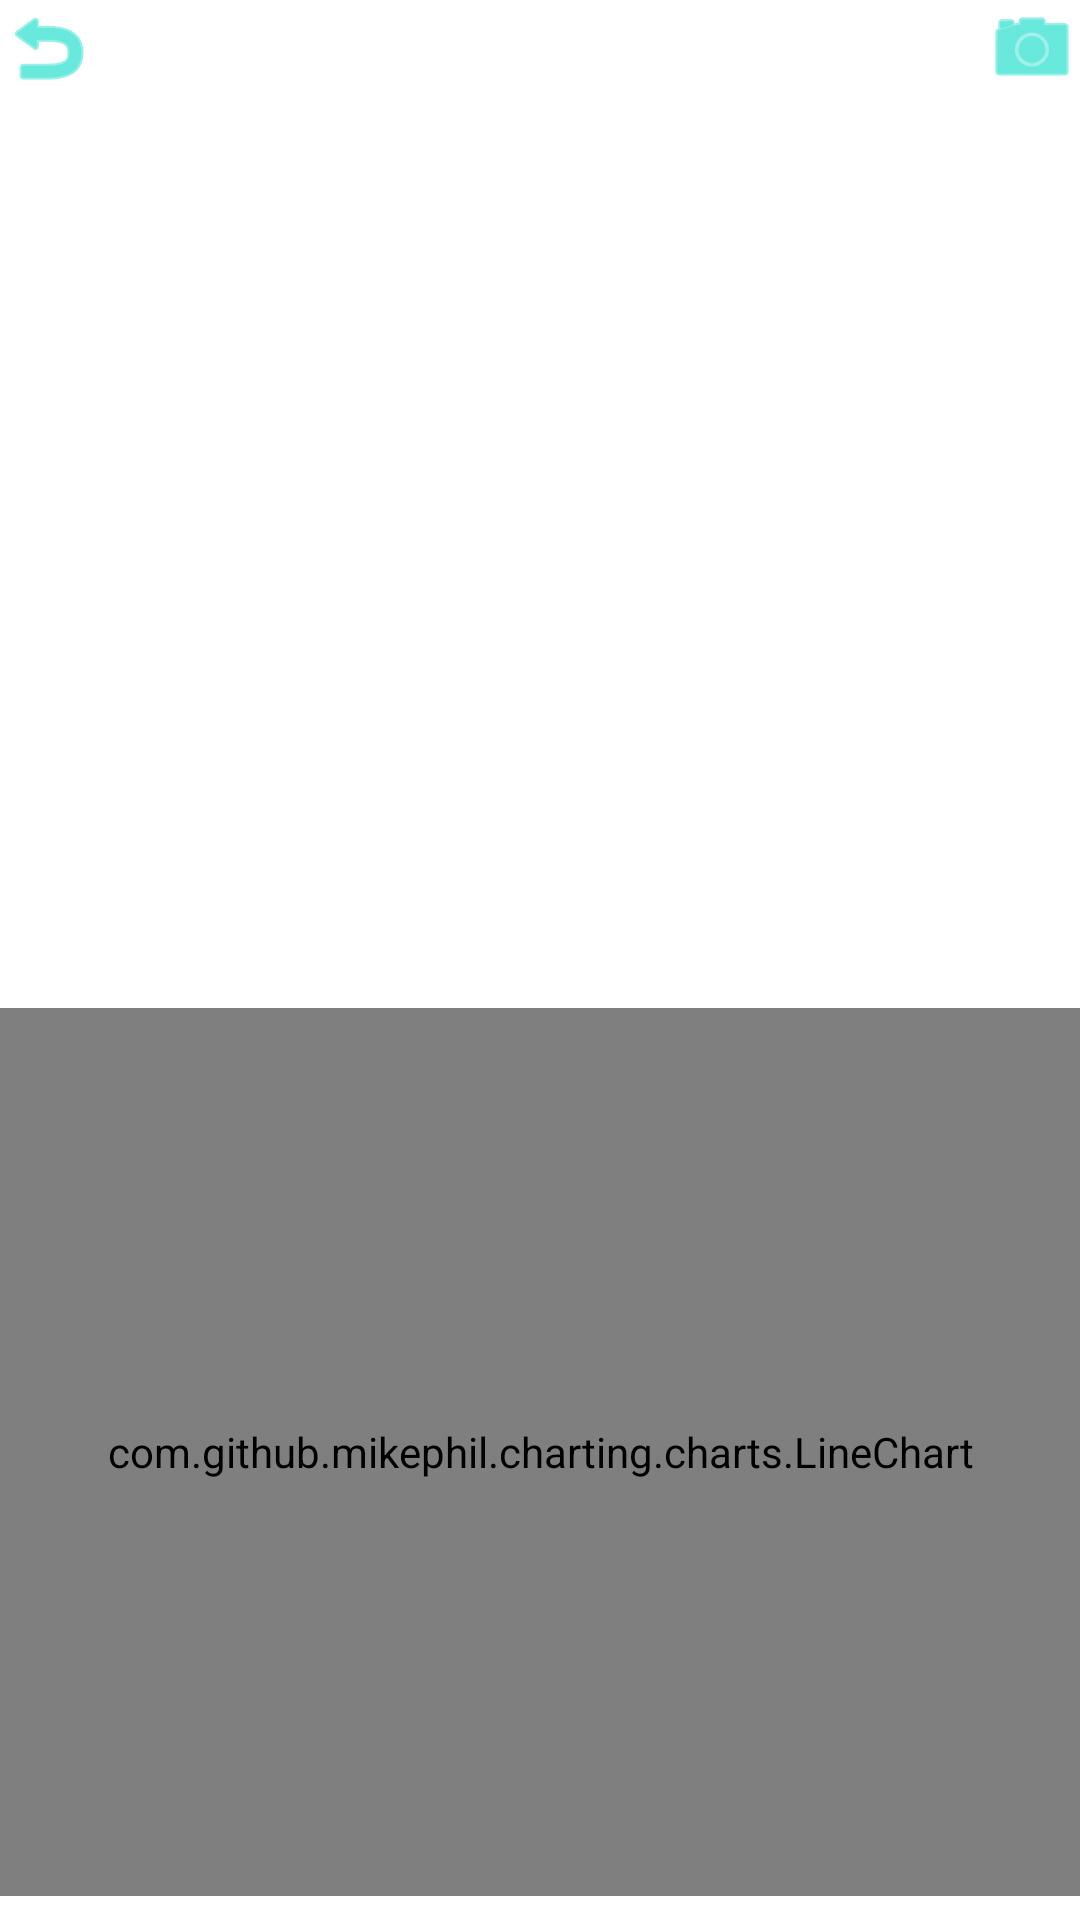

Screen size 1080w x 1920h. Icon name, then its center in pixels as (x=x, y=y):
camera: (x=1032, y=46)
revert: (x=49, y=48)
